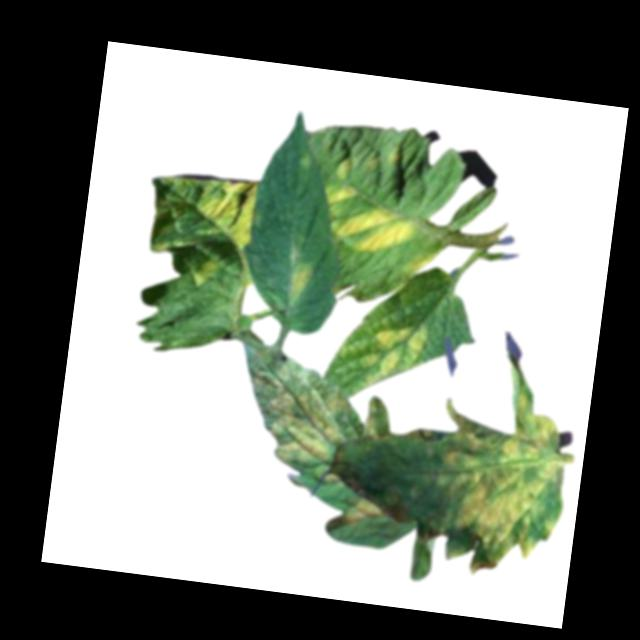Leaf_Mold: (425, 385, 572, 562), (246, 368, 354, 469), (358, 315, 435, 395), (192, 170, 260, 250), (335, 204, 418, 259), (320, 153, 363, 208), (361, 393, 394, 441), (343, 492, 386, 528), (284, 258, 313, 305), (190, 255, 220, 292)
